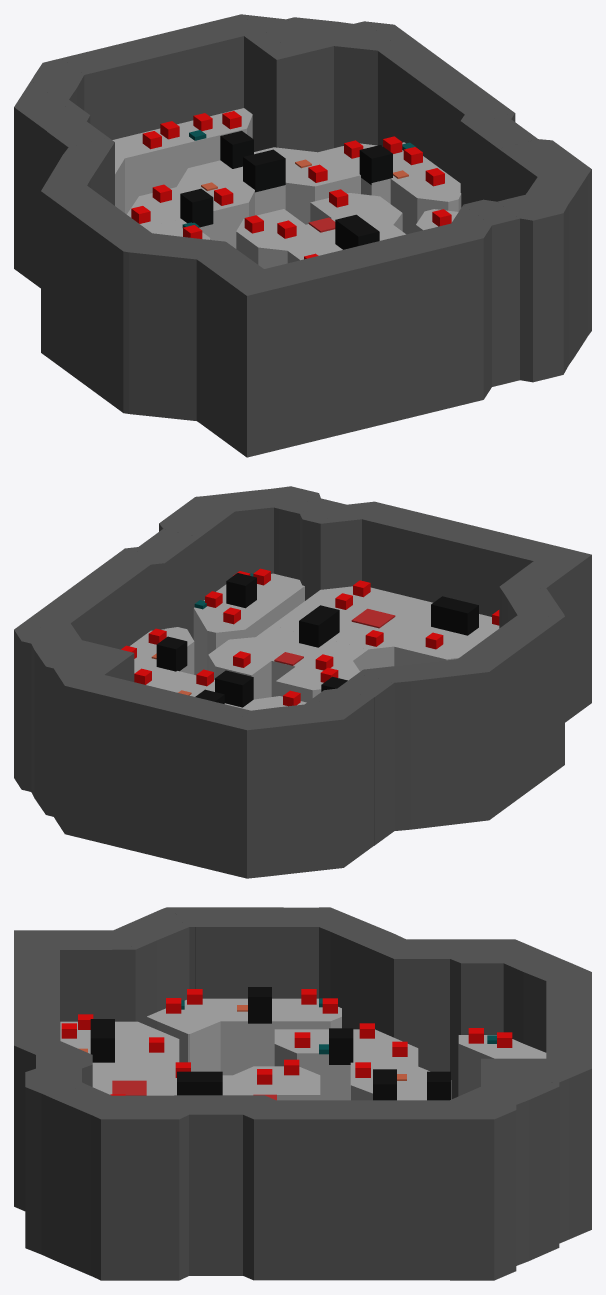
Rendered from Lvl3_Room1.fbx.
3 renders of one model, top to bottom at view 1: azimuth 30°, elevation 25°; view 2: azimuth 150°, elevation 25°; view 3: azimuth 270°, elevation 25°, orthographic. The views are drawn at different scales.
Parts seen in each view (by area): view 1: Walls75, Walls81, Walls90, Walls59, Walls79, Walls86, Walls91, Walls69, Walls95, Walls76, Floor328, Walls78 (+44 smaller); view 2: Walls90, Walls75, Walls86, Walls83, Walls81, Walls59, Walls88, Walls91, Walls85, Walls65, Walls89, Walls66 (+42 smaller); view 3: Walls59, Walls64, Walls98, Walls81, Walls63, Walls66, Walls83, Walls76, Walls95, Walls85, Walls75, Walls87 (+49 smaller).
Part boxes in pixels (x1=…): Walls75: x1=223, y1=223, x2=474, y2=457; Walls81: x1=47, y1=185, x2=148, y2=412; Walls90: x1=62, y1=19, x2=243, y2=139; Walls59: x1=377, y1=41, x2=503, y2=182; Walls79: x1=129, y1=233, x2=194, y2=418; Walls86: x1=14, y1=81, x2=86, y2=288; Walls91: x1=221, y1=14, x2=296, y2=151; Walls69: x1=504, y1=196, x2=563, y2=382; Walls95: x1=295, y1=17, x2=377, y2=147; Walls76: x1=200, y1=241, x2=263, y2=440; Floor328: x1=112, y1=112, x2=246, y2=214; Walls78: x1=174, y1=238, x2=215, y2=420; Walls90: x1=83, y1=675, x2=250, y2=874; Walls75: x1=362, y1=503, x2=591, y2=718; Walls86: x1=286, y1=688, x2=373, y2=874; Walls83: x1=364, y1=660, x2=489, y2=829; Walls81: x1=458, y1=616, x2=564, y2=815; Walls59: x1=35, y1=556, x2=150, y2=649; Walls88: x1=247, y1=704, x2=303, y2=878; Walls91: x1=65, y1=648, x2=134, y2=838; Walls85: x1=337, y1=674, x2=394, y2=845; Walls65: x1=163, y1=496, x2=234, y2=600; Walls89: x1=230, y1=707, x2=277, y2=878; Walls66: x1=209, y1=490, x2=269, y2=573; Walls59: x1=275, y1=1100, x2=449, y2=1280; Walls64: x1=91, y1=1114, x2=188, y2=1280; Walls98: x1=450, y1=1110, x2=516, y2=1280; Walls81: x1=166, y1=907, x2=318, y2=998; Walls63: x1=189, y1=1095, x2=242, y2=1275; Walls66: x1=54, y1=1083, x2=111, y2=1275; Walls83: x1=330, y1=907, x2=393, y2=1037; Walls76: x1=60, y1=930, x2=135, y2=1040; Walls95: x1=450, y1=1086, x2=559, y2=1260; Walls85: x1=406, y1=939, x2=449, y2=1071; Walls75: x1=14, y1=930, x2=59, y2=1040; Walls87: x1=450, y1=959, x2=570, y2=1099.
Size of the model in its own units: 55.5 by 19.68 by 63.98.
